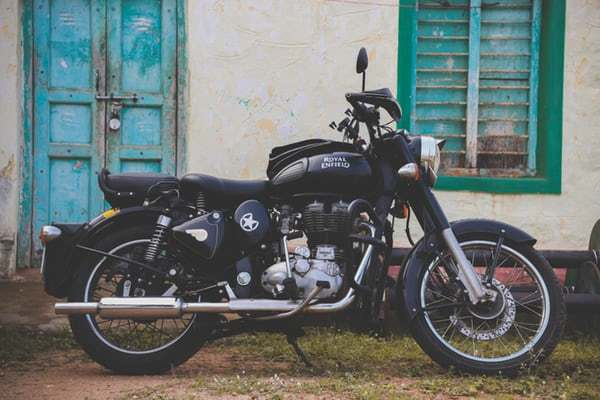5_label: (16, 22, 583, 379)
